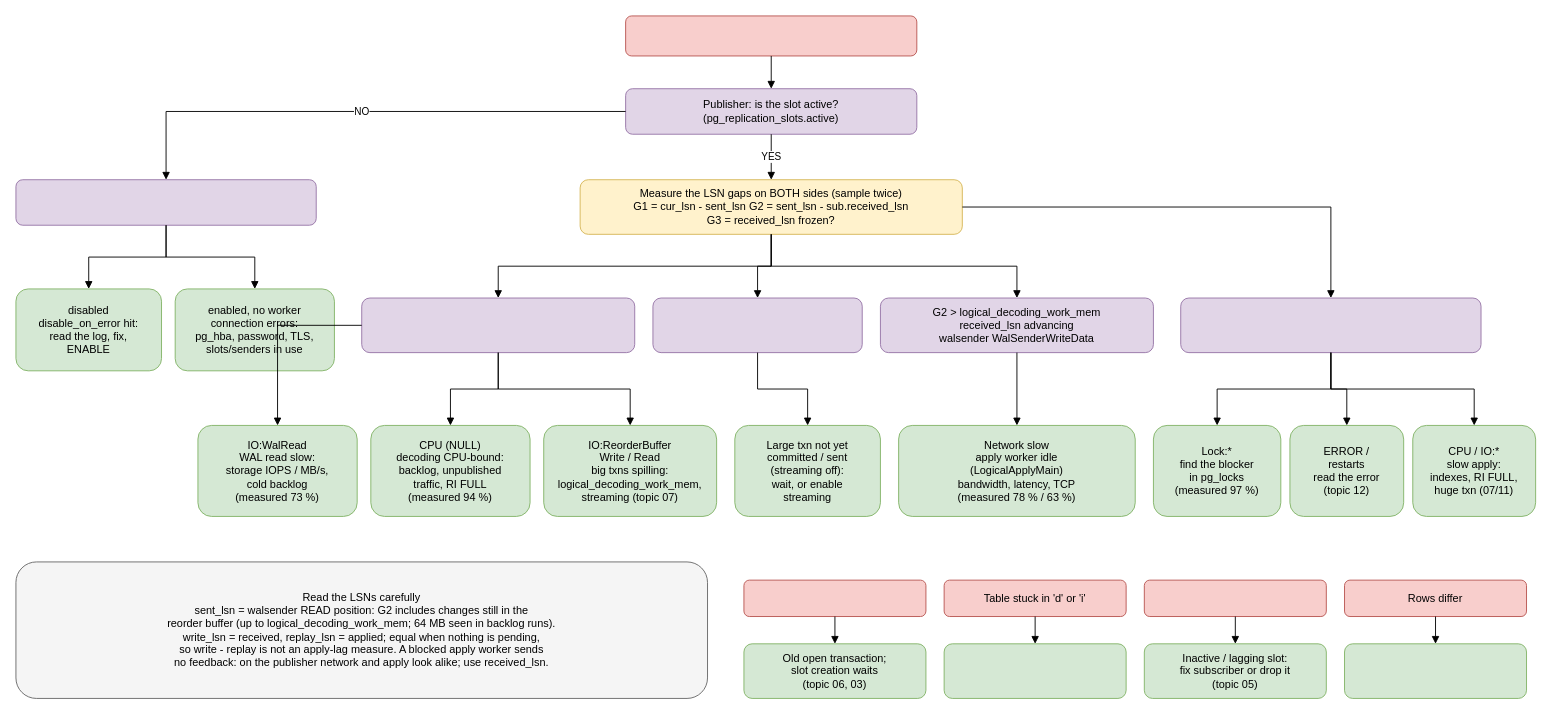
This 1552x714 diagram has some shape labels left out. Here are the shapes that lost their labels. From the top down, the centre of each, then its label:
point 771,35: Subscriber is behind / not changing
point 165,202: Subscriber: subscription enabled? (pg_subscription.subenabled)
point 498,325: G1 large / growing walsender behind reading WAL -> walsender wait event
point 757,325: G1 small, nothing applied, spill_* / stream_* rising
point 1330,325: received_lsn frozen walsender WalSenderWriteData -> apply worker wait event
point 834,598: CREATE SUBSCRIPTION hangs
point 1234,598: Publisher disk filling
point 1034,670: Topic 10: worker limits, copy errors, sync slot waiting for open txn
point 1435,670: confl_* counters (12); checksums; repair or re-sync one table (10)
